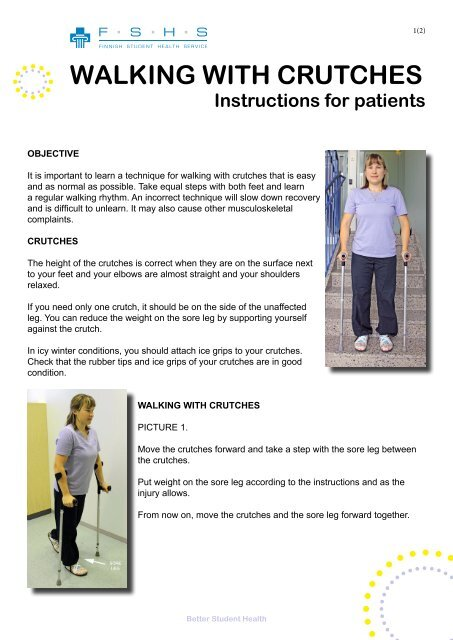crutches: (336, 153, 412, 354), (48, 393, 114, 584)
